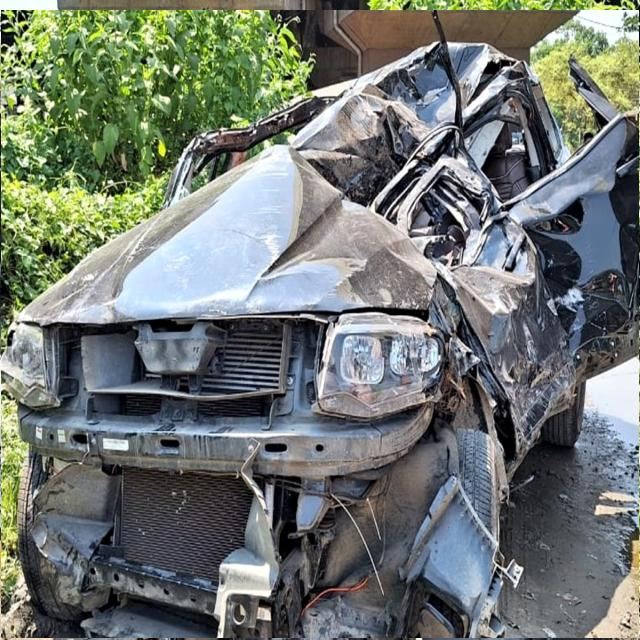accident: (0, 10, 639, 638)
